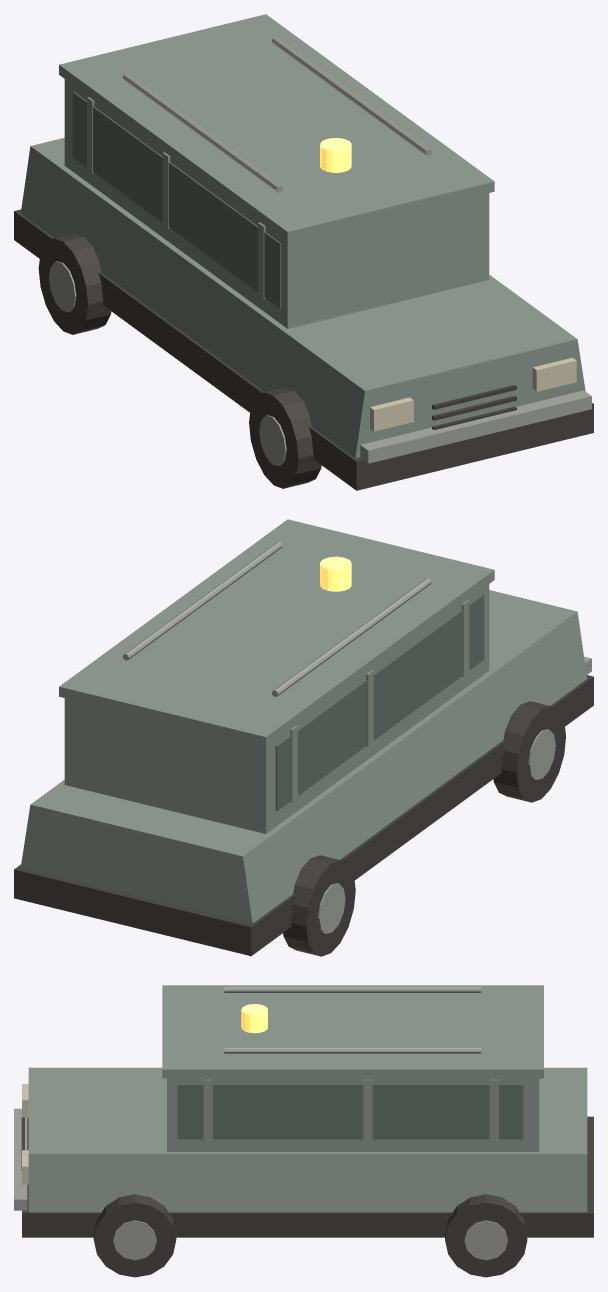
File: signal-house-relay-service-estate-car__196.glb
3 views of the same model, one above another, from view 1: azimuth 30°, elevation 25°; view 2: azimuth 150°, elevation 25°; view 3: azimuth 270°, elevation 25° (orthographic). The views are drawn at different scales.
Parts seen in each view (by area): view 1: shell, dark, glass, metal, paper, light; view 2: shell, dark, glass, metal, light; view 3: shell, dark, glass, metal, light, paper.
Part boxes in pixels (<box>): shell: <box>21,14,585,458</box>; dark: <box>14,209,593,490</box>; glass: <box>72,92,281,308</box>; metal: <box>49,37,591,466</box>; paper: <box>370,357,576,431</box>; light: <box>320,138,351,172</box>; shell: <box>21,519,587,923</box>; dark: <box>14,675,593,956</box>; glass: <box>275,594,484,811</box>; metal: <box>122,541,591,933</box>; light: <box>320,556,351,591</box>; shell: <box>28,985,587,1212</box>; dark: <box>21,1116,593,1277</box>; glass: <box>177,1084,523,1139</box>; metal: <box>14,987,507,1260</box>; light: <box>241,1004,267,1033</box>; paper: <box>22,1084,28,1184</box>.
Size of the model in its own units: 1.96 by 1.77 by 4.36.
